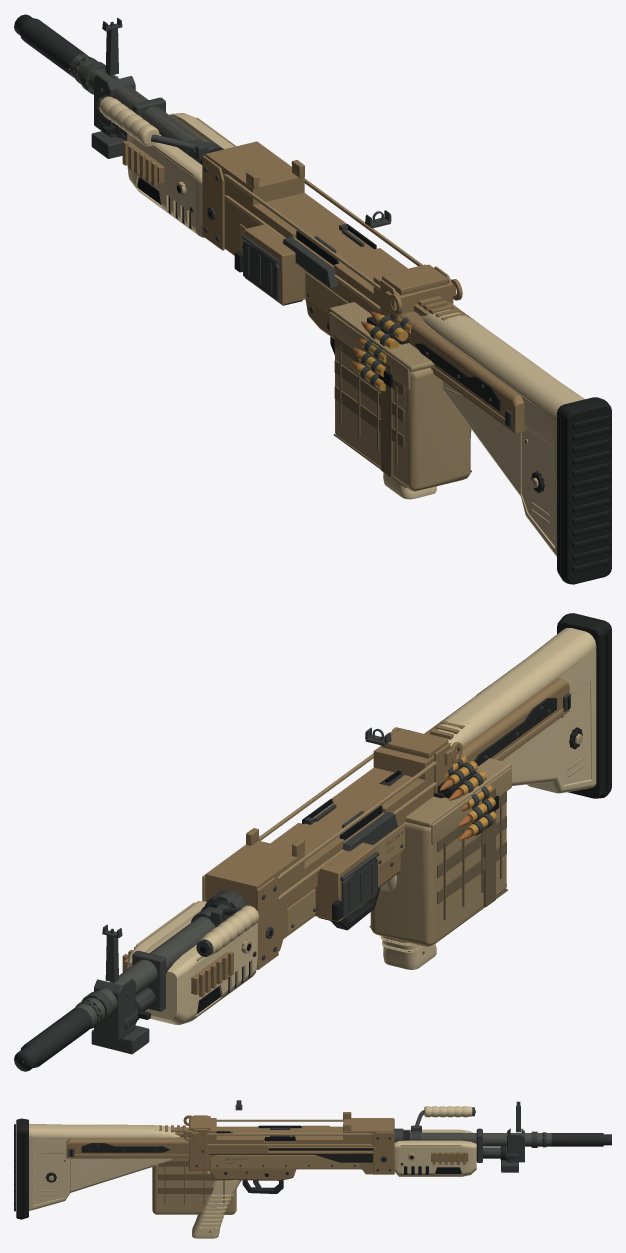
The model's file is weapon-4-C9-d8wV9.glb.
3 views of the same model, one above another, from view 1: azimuth 30°, elevation 25°; view 2: azimuth 150°, elevation 25°; view 3: azimuth 270°, elevation 25° (orthographic). The views are drawn at different scales.
Parts seen in each view (by area): view 1: salient_weapon_body, salient_weapon_magazine, salient_weapon_cover, salient_weapon_belt, salient_weapon_iron; view 2: salient_weapon_body, salient_weapon_magazine, salient_weapon_cover, salient_weapon_belt, salient_weapon_iron; view 3: salient_weapon_body, salient_weapon_magazine, salient_weapon_cover, salient_weapon_iron.
Boxes of the visible parts, <box> form: salient_weapon_body: <box>14,14,611,584</box>; salient_weapon_magazine: <box>329,302,471,491</box>; salient_weapon_cover: <box>400,296,525,433</box>; salient_weapon_belt: <box>351,311,421,391</box>; salient_weapon_iron: <box>102,17,391,228</box>; salient_weapon_body: <box>14,613,611,1071</box>; salient_weapon_magazine: <box>369,758,511,946</box>; salient_weapon_cover: <box>424,677,570,769</box>; salient_weapon_belt: <box>439,756,496,840</box>; salient_weapon_iron: <box>102,727,391,982</box>; salient_weapon_body: <box>14,1106,611,1238</box>; salient_weapon_magazine: <box>152,1158,236,1214</box>; salient_weapon_cover: <box>66,1125,189,1158</box>; salient_weapon_iron: <box>235,1100,520,1132</box>.
Bounding box in the file's own units: 0.1004 × 0.2428 × 0.991.
